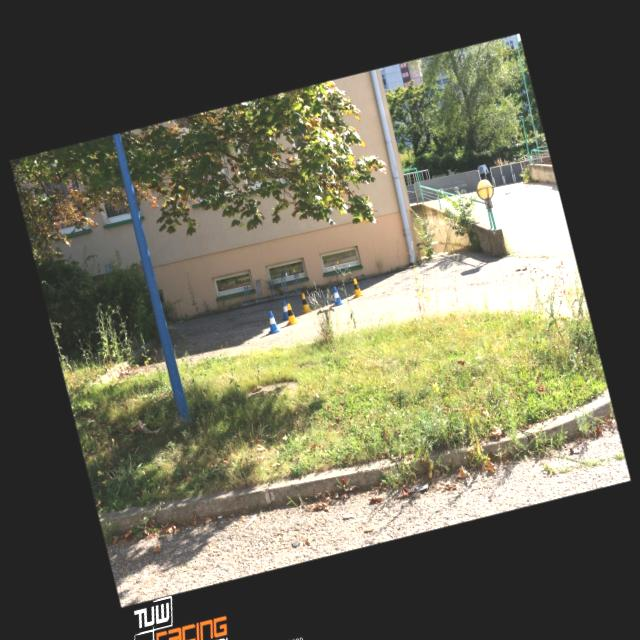blue_cone: (262, 309, 281, 335), (328, 284, 343, 306), (278, 298, 290, 320)
yellow_cone: (282, 300, 298, 326), (296, 292, 312, 314), (349, 277, 364, 299)
